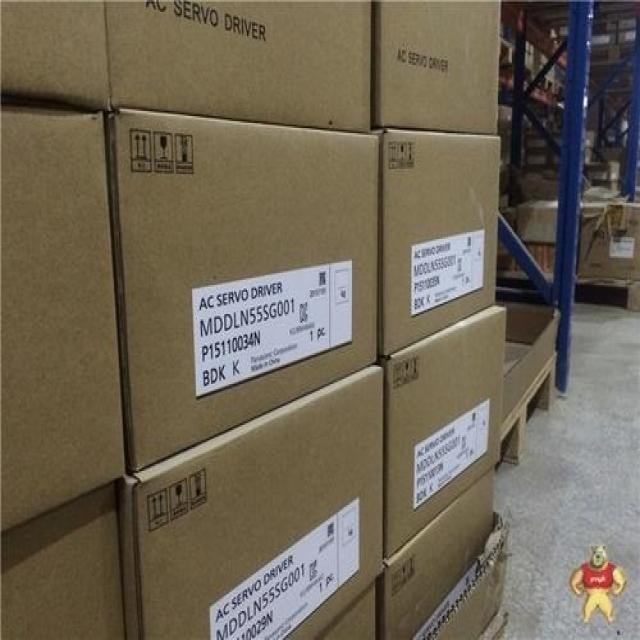box: (106, 108, 379, 471), (115, 365, 384, 640), (0, 104, 127, 531), (105, 0, 372, 133), (379, 305, 506, 558), (371, 130, 500, 357), (375, 466, 494, 640), (0, 481, 125, 640), (372, 0, 500, 135), (0, 0, 110, 111), (314, 582, 376, 640), (516, 198, 558, 246), (584, 162, 620, 181), (525, 148, 549, 166), (525, 133, 550, 148)
